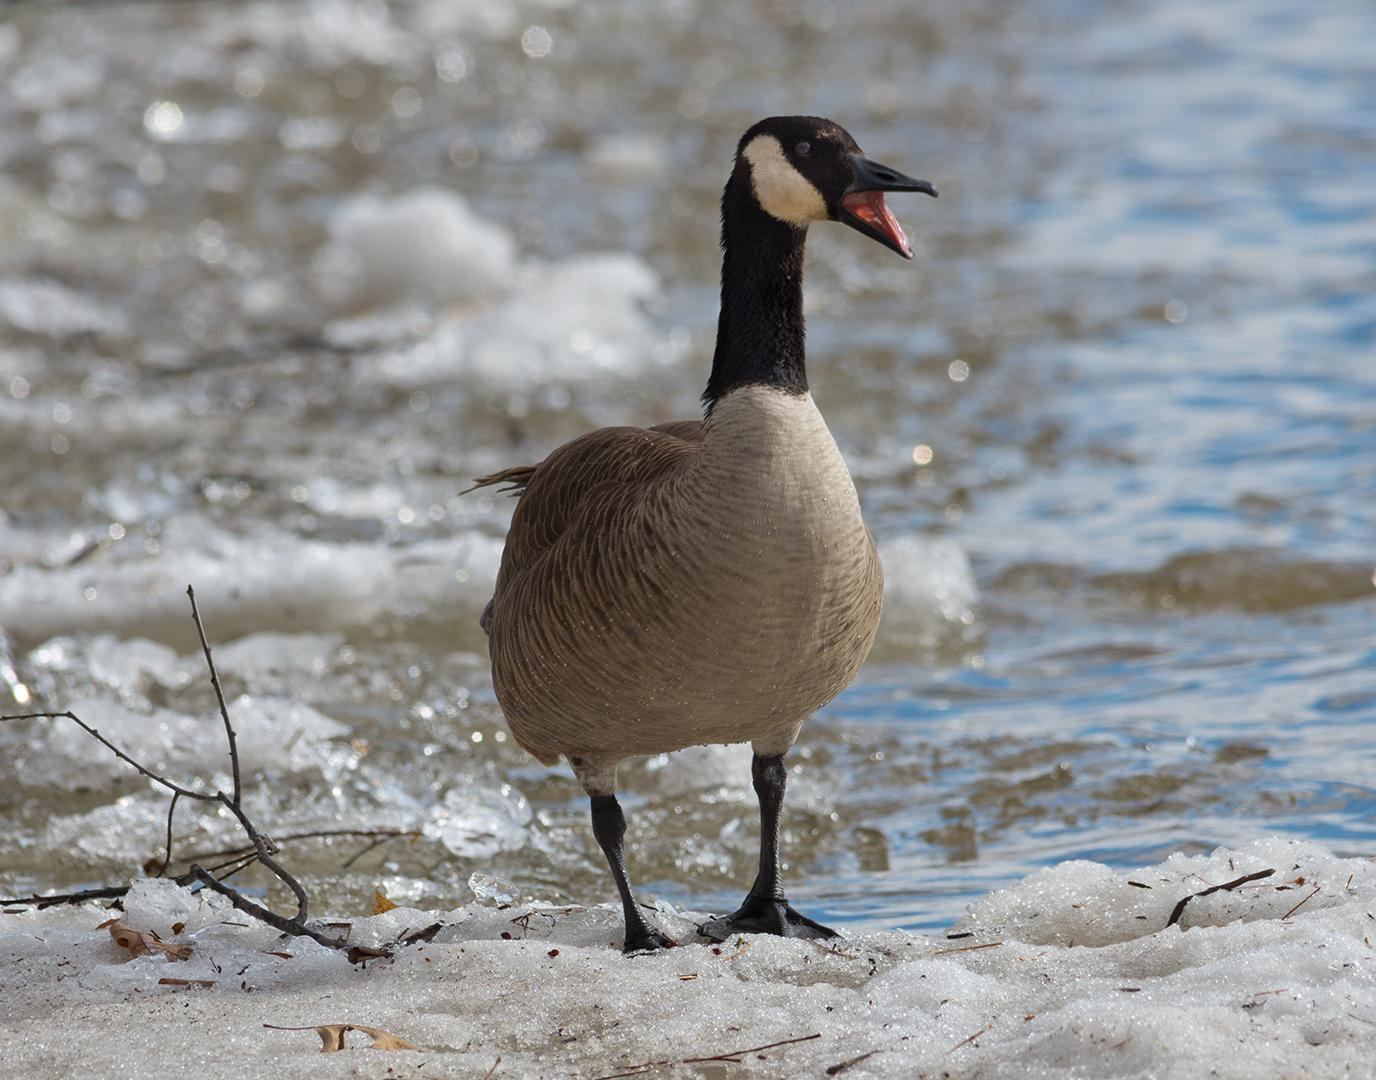goose: (452, 108, 940, 956)
